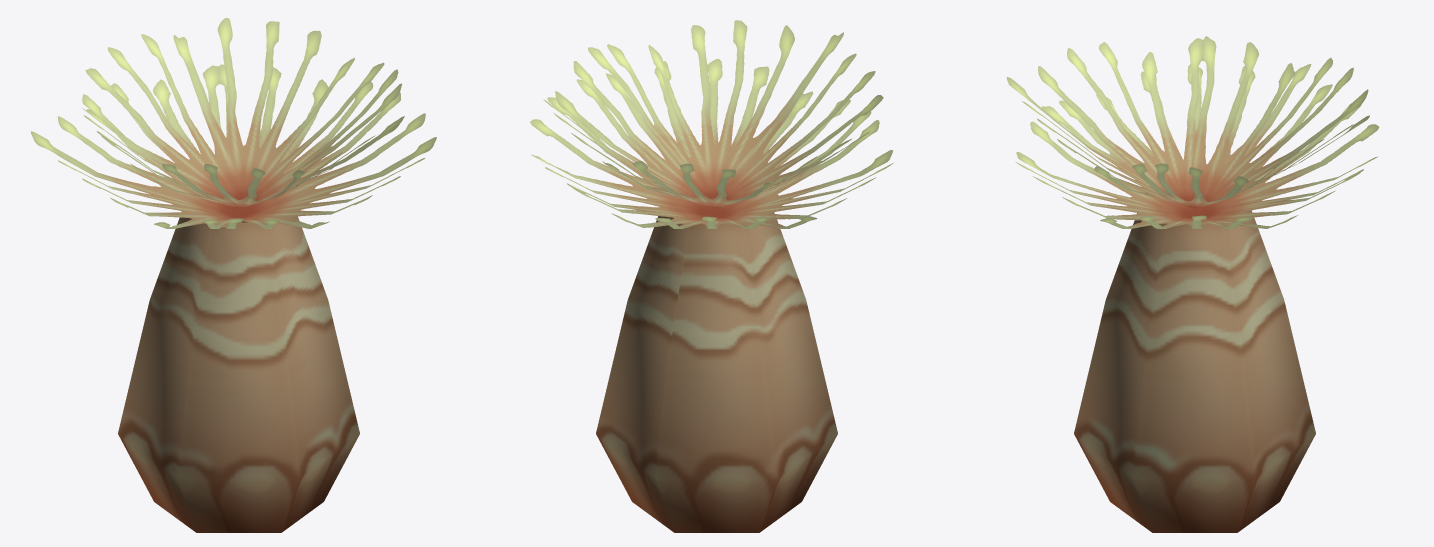
The model's file is Coral_33.FBX.
3 views of the same model, side by side, from view 1: azimuth 30°, elevation 25°; view 2: azimuth 150°, elevation 25°; view 3: azimuth 270°, elevation 25° (orthographic).
Visible parts, largest first — view 1: Coral_33; view 2: Coral_33; view 3: Coral_33.
Part boxes in pixels (x1,y1,x2,y2): Coral_33: (30,18,436,532); Coral_33: (530,20,893,532); Coral_33: (1006,36,1379,532).
Bounding box in the file's own units: 18.6 × 21.59 × 21.48.
